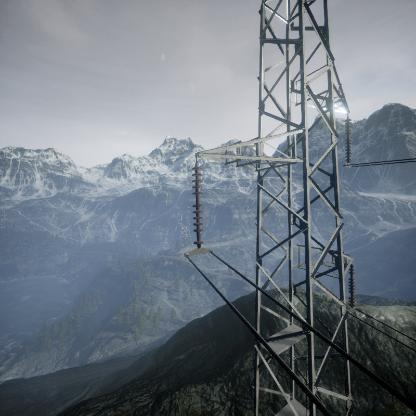insulator: (189, 162, 208, 248)
